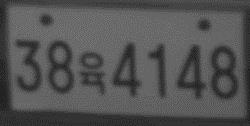1: (147, 41, 169, 99)
3: (14, 38, 43, 92)
4: (175, 44, 207, 100), (112, 42, 142, 97)
8: (210, 45, 239, 99), (47, 39, 74, 95)
육: (79, 51, 108, 97)
